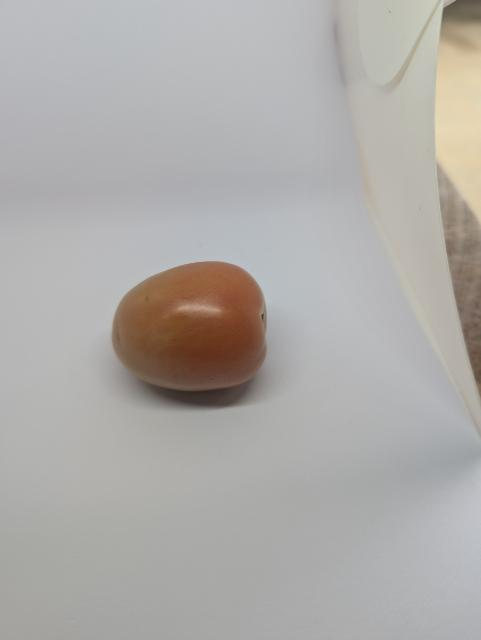turning: (108, 257, 286, 406)
